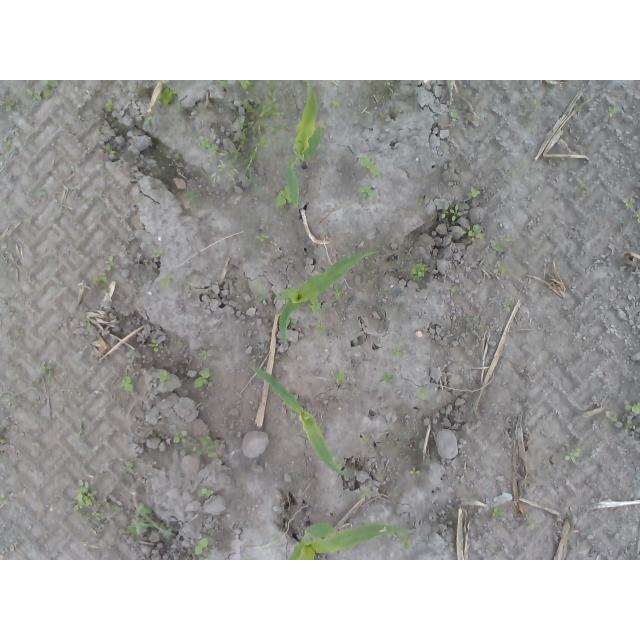Maize: (253, 367, 343, 478), (276, 252, 381, 345), (285, 80, 326, 210), (287, 524, 417, 561)
Weeds: (240, 97, 287, 148), (173, 430, 223, 463), (226, 148, 259, 189), (127, 501, 154, 535), (72, 477, 99, 511), (31, 81, 59, 104), (358, 154, 380, 179), (490, 235, 513, 257), (440, 202, 464, 223), (622, 197, 640, 224), (118, 367, 136, 393), (157, 86, 178, 108), (351, 184, 378, 200), (200, 136, 221, 156), (409, 261, 430, 281), (193, 367, 210, 390), (274, 187, 290, 209), (195, 536, 209, 561), (565, 447, 584, 465), (98, 498, 121, 512), (467, 224, 486, 240), (85, 512, 104, 528), (263, 81, 278, 100), (254, 232, 271, 248), (185, 191, 200, 209), (622, 401, 640, 416), (0, 96, 16, 112), (158, 272, 174, 288), (92, 272, 108, 288), (147, 337, 162, 354), (1, 438, 16, 455), (466, 185, 480, 200), (417, 387, 432, 401), (159, 370, 173, 385), (401, 539, 416, 553), (493, 260, 509, 273), (330, 98, 346, 111), (235, 81, 253, 92), (335, 369, 348, 384), (607, 105, 622, 118), (144, 116, 160, 128), (103, 96, 114, 113), (197, 485, 214, 496), (389, 343, 402, 357), (152, 247, 168, 258), (104, 256, 115, 272), (384, 372, 397, 385), (449, 111, 461, 125), (356, 486, 370, 498), (127, 351, 142, 362), (161, 529, 172, 544), (577, 183, 592, 194), (490, 507, 505, 518), (0, 391, 16, 401), (39, 528, 49, 544), (102, 142, 114, 155), (124, 464, 136, 477), (213, 80, 229, 89), (83, 317, 95, 329), (408, 467, 421, 478), (34, 187, 48, 197), (319, 319, 328, 334), (38, 367, 51, 377), (359, 434, 369, 447), (531, 98, 542, 109), (334, 287, 342, 301), (199, 351, 209, 362), (0, 493, 8, 504), (504, 304, 513, 313), (451, 287, 461, 295), (4, 142, 14, 150), (385, 81, 396, 88), (287, 319, 297, 326), (360, 257, 368, 264)
